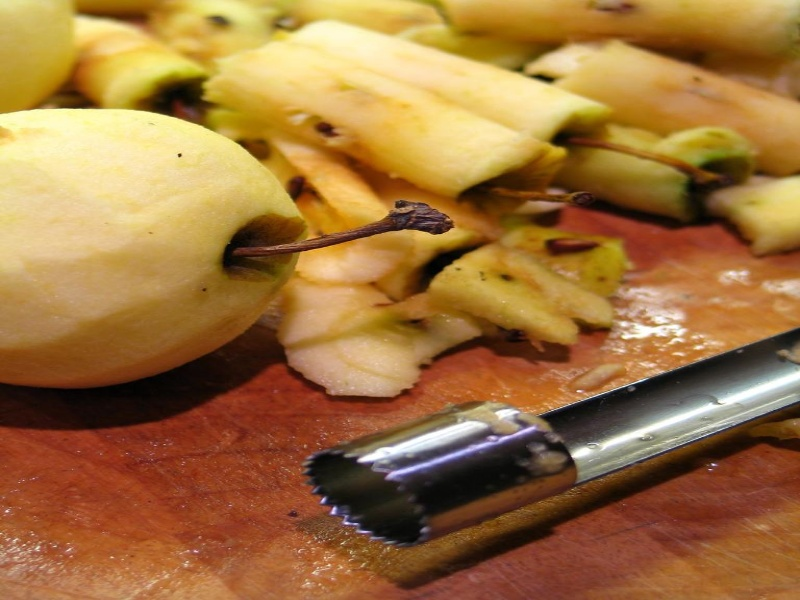apple: (3, 106, 443, 399), (223, 17, 613, 187)
